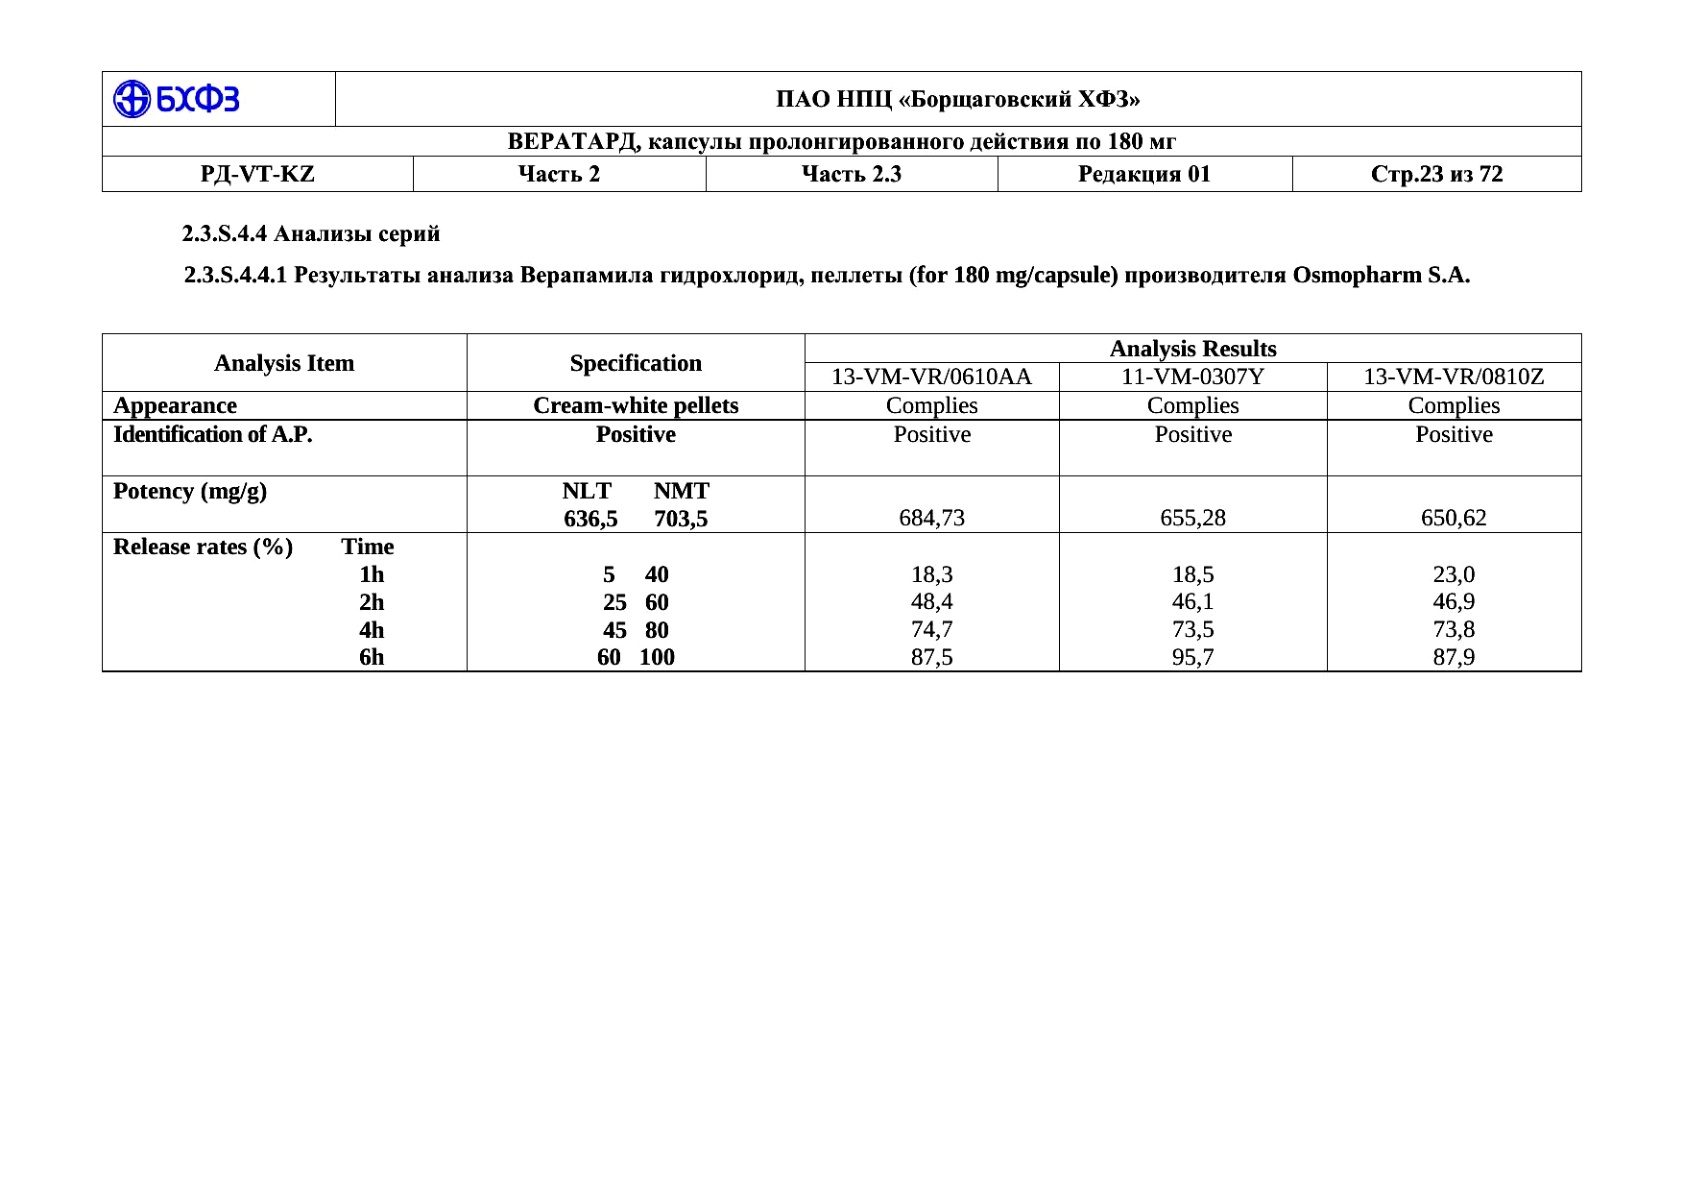merged_cells: (101, 332, 1582, 672), (101, 68, 1583, 192)
